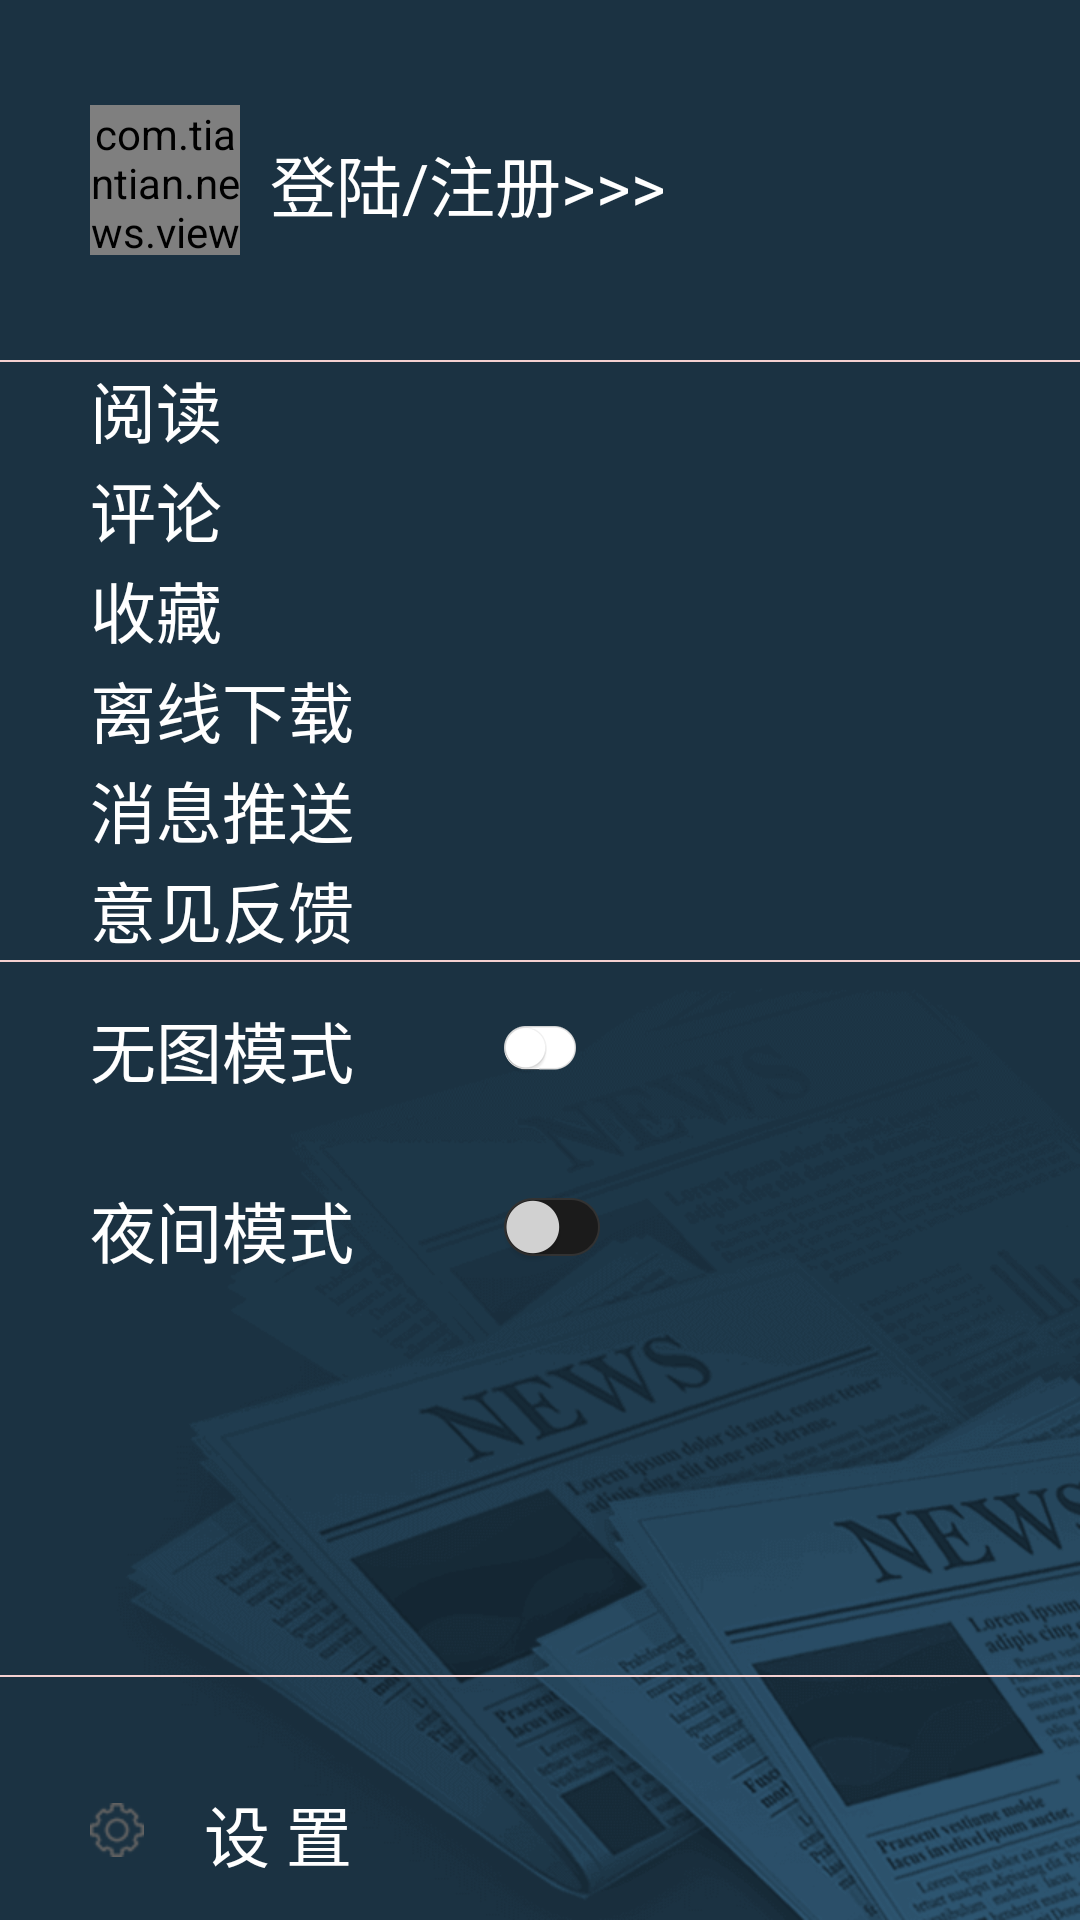

Icons on this 1080 x 1920 Android screen, each with the point to tap as (x,y):
night turn off: (552,1227)
profile action set: (117,1830)
turn off: (540,1048)
